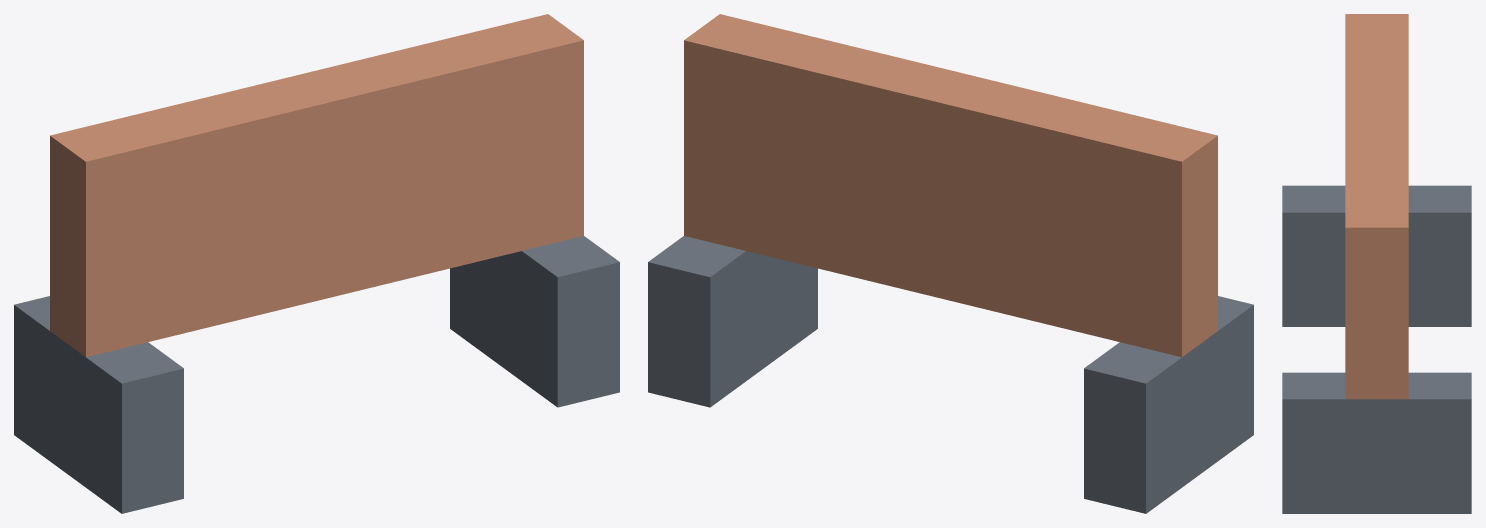
The model's file is kit_bound_construction.glb.
The picture shows the model from 3 angles, left to right: view 1: azimuth 30°, elevation 25°; view 2: azimuth 150°, elevation 25°; view 3: azimuth 270°, elevation 25°; orthographic projection. The views are drawn at different scales.
Visible parts, largest first — view 1: kit_bound_construction-col; view 2: kit_bound_construction-col; view 3: kit_bound_construction-col.
Part boxes in pixels (box(x1,y1,x2,y2)): kit_bound_construction-col: box(14, 14, 619, 513); kit_bound_construction-col: box(648, 14, 1253, 513); kit_bound_construction-col: box(1282, 14, 1471, 513).
Bounding box in the file's own units: 2 × 1.25 × 0.75.
